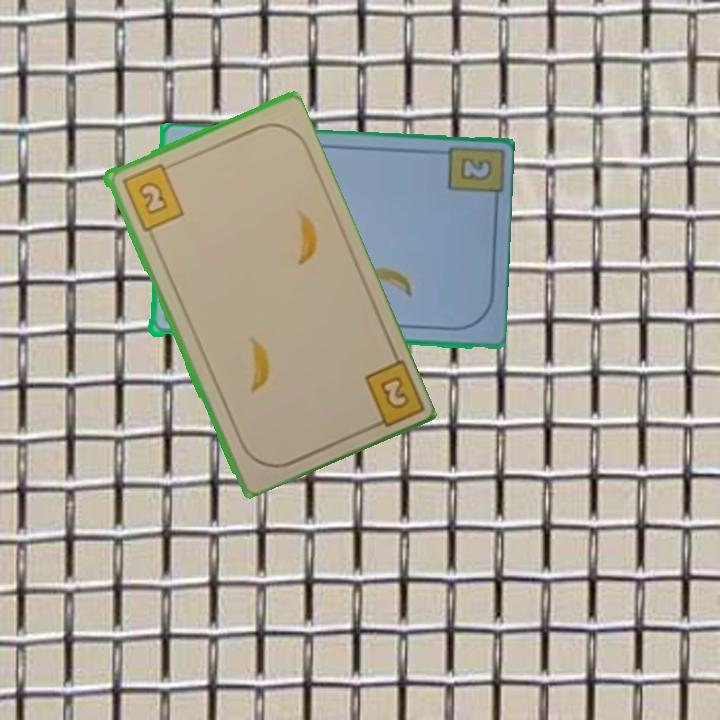2b: (118, 159, 186, 234), (360, 354, 424, 433), (456, 154, 496, 184)
